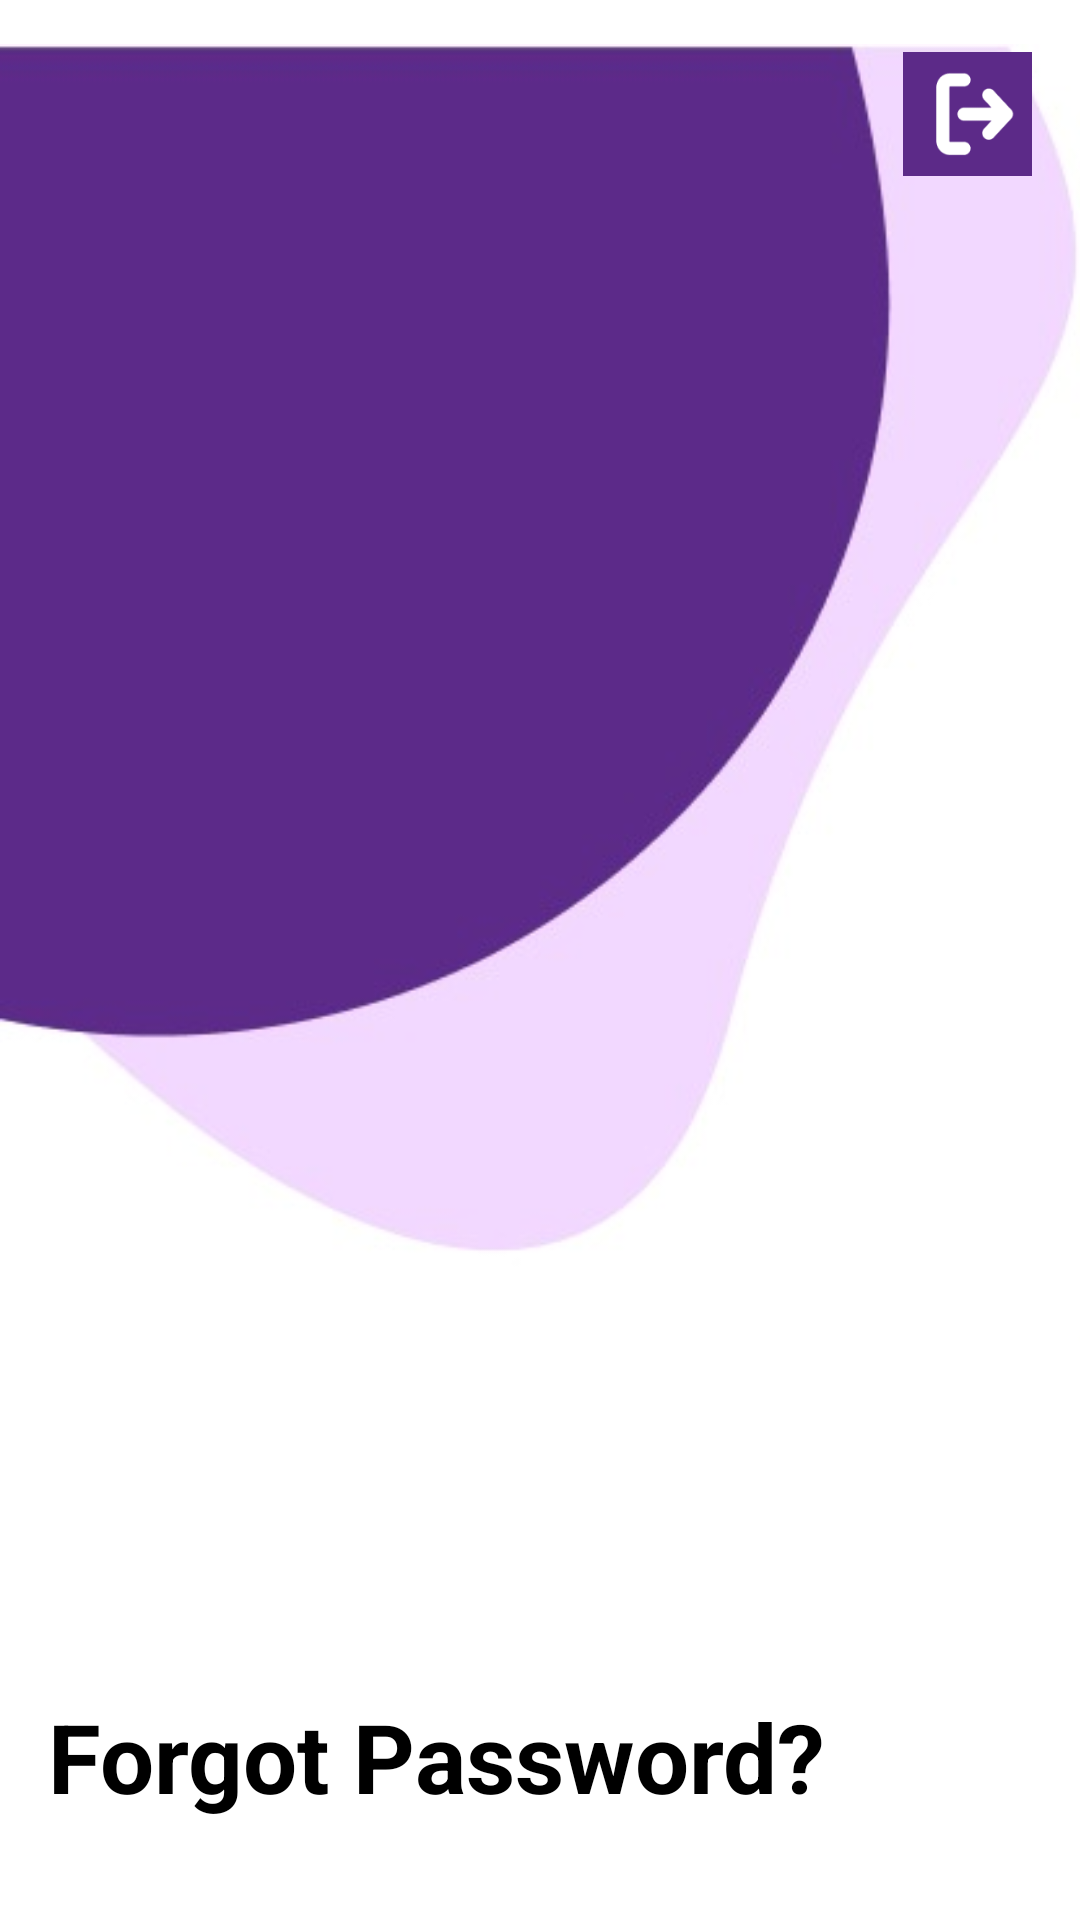

Where icons sit on this 1080x1920 app screen, as detection(x1, y1, x2, y2):
exit: detection(903, 48, 1032, 176)
